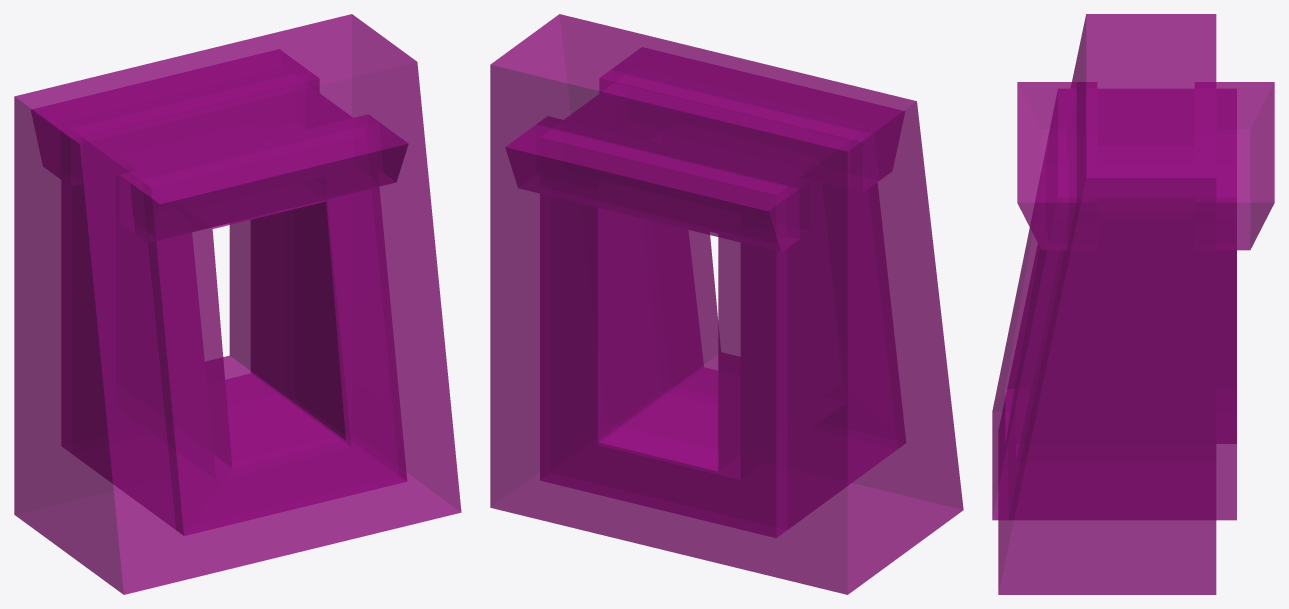
The model's file is SM_Bld_Wall_Temple_Ground_Window_02_Collision.fbx.
The picture shows the model from 3 angles, left to right: view 1: azimuth 30°, elevation 25°; view 2: azimuth 150°, elevation 25°; view 3: azimuth 270°, elevation 25°; orthographic projection. The views are drawn at different scales.
Visible parts, largest first — view 1: SM_Bld_Wall_Temple_Ground_Window_02_Collision; view 2: SM_Bld_Wall_Temple_Ground_Window_02_Collision; view 3: SM_Bld_Wall_Temple_Ground_Window_02_Collision.
Boxes of the visible parts, x1,y1,x2,y2 form: SM_Bld_Wall_Temple_Ground_Window_02_Collision: (14,14,461,594); SM_Bld_Wall_Temple_Ground_Window_02_Collision: (490,14,963,594); SM_Bld_Wall_Temple_Ground_Window_02_Collision: (992,14,1274,594).
Size of the model in its own units: 509 by 603 by 370.
